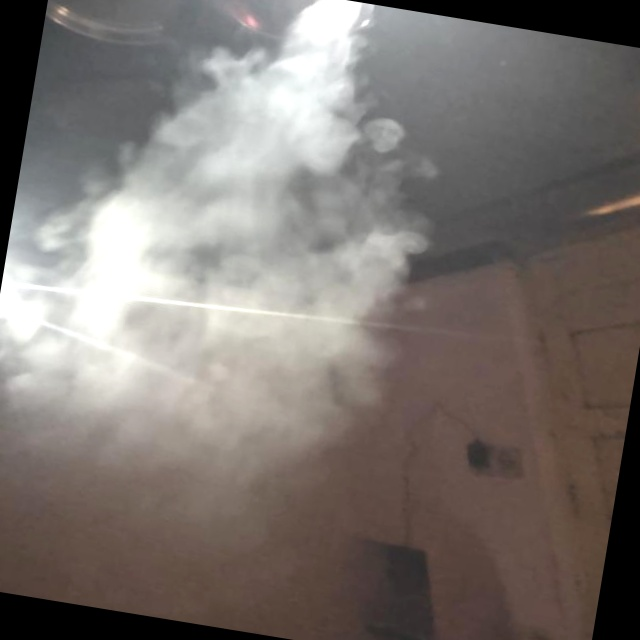smoke: (29, 103, 298, 449)
